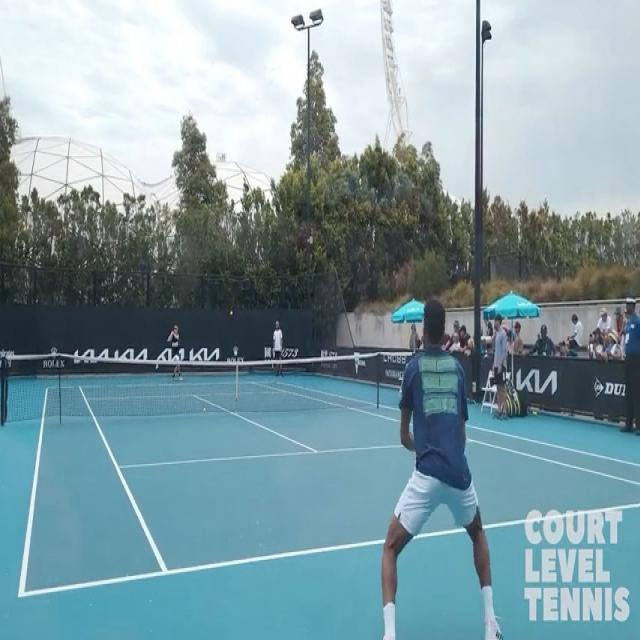ready-position: (377, 302, 504, 640)
